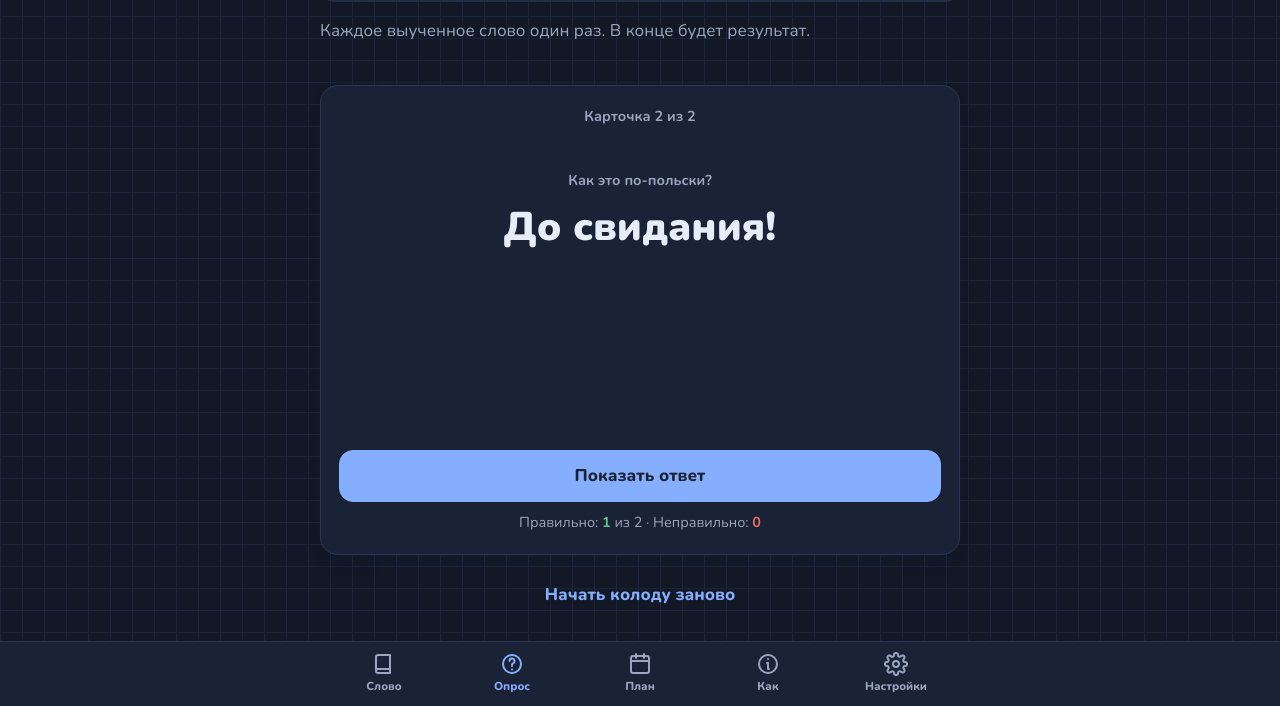
Test case: "Колода" › "Начать колоду заново" asks first, the second press starts a new deck
The image size is (1280, 706).
(page scrolled)
Click the button "Начать колоду заново". click: (640, 594)
box: [530,571,750,618]
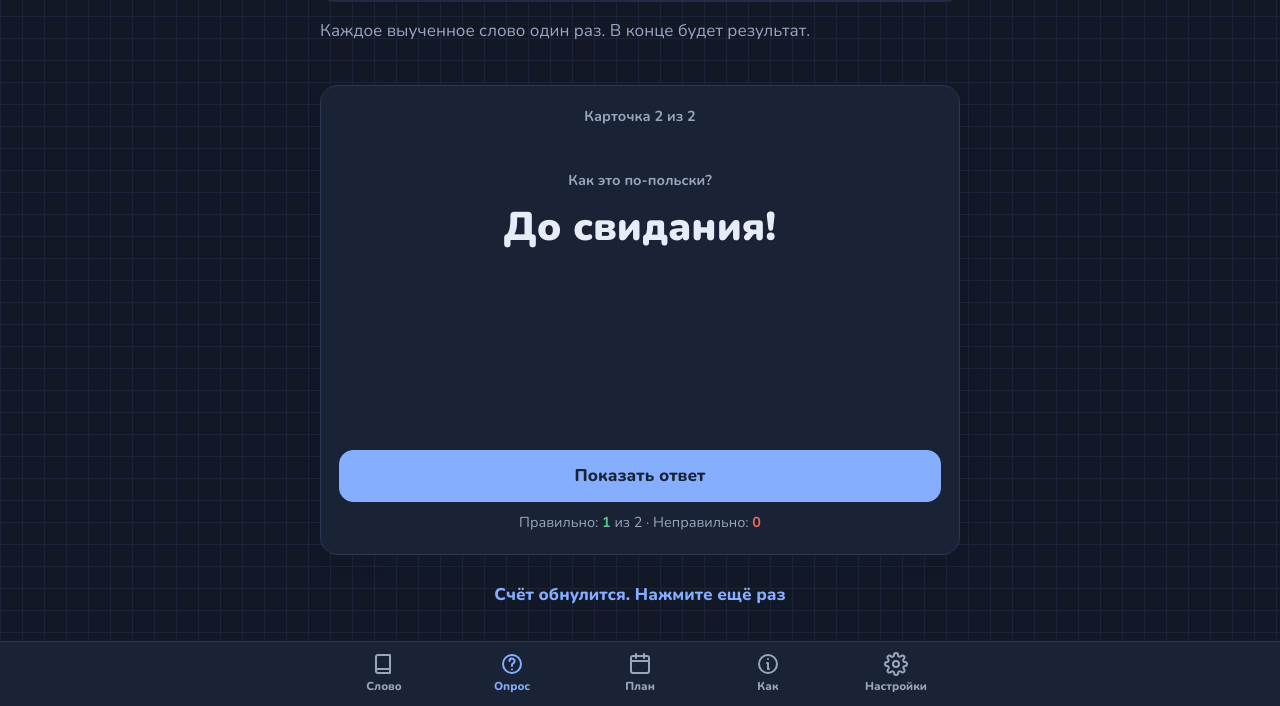
Expected: the text with class "ask" reads "Карточка 2 из 2", [584,106,696,126]
Click the button "Счёт обнулится. Нажмите ещё раз". click: (640, 594)
box: [479,571,801,618]
(page scrolled)
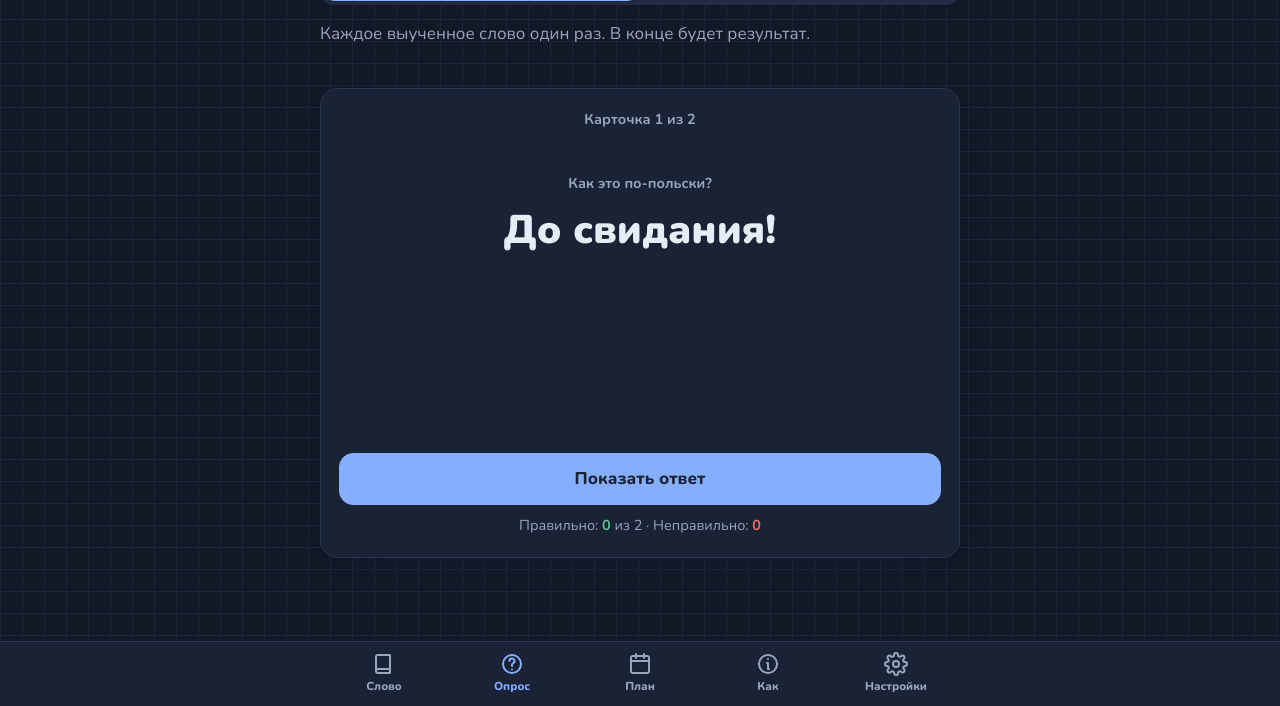
Expected: the button "Начать колоду заново" is not shown
Now the text with class "ask" reads "Карточка 1 из 2", box [584,109,696,129]
